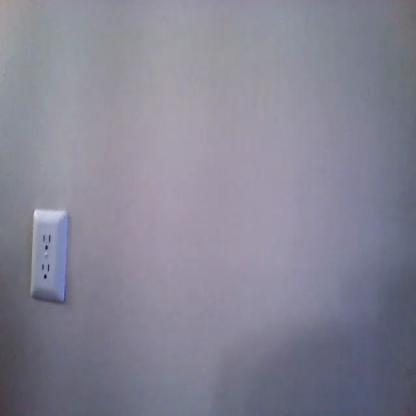OUTLET: (30, 207, 66, 305)
